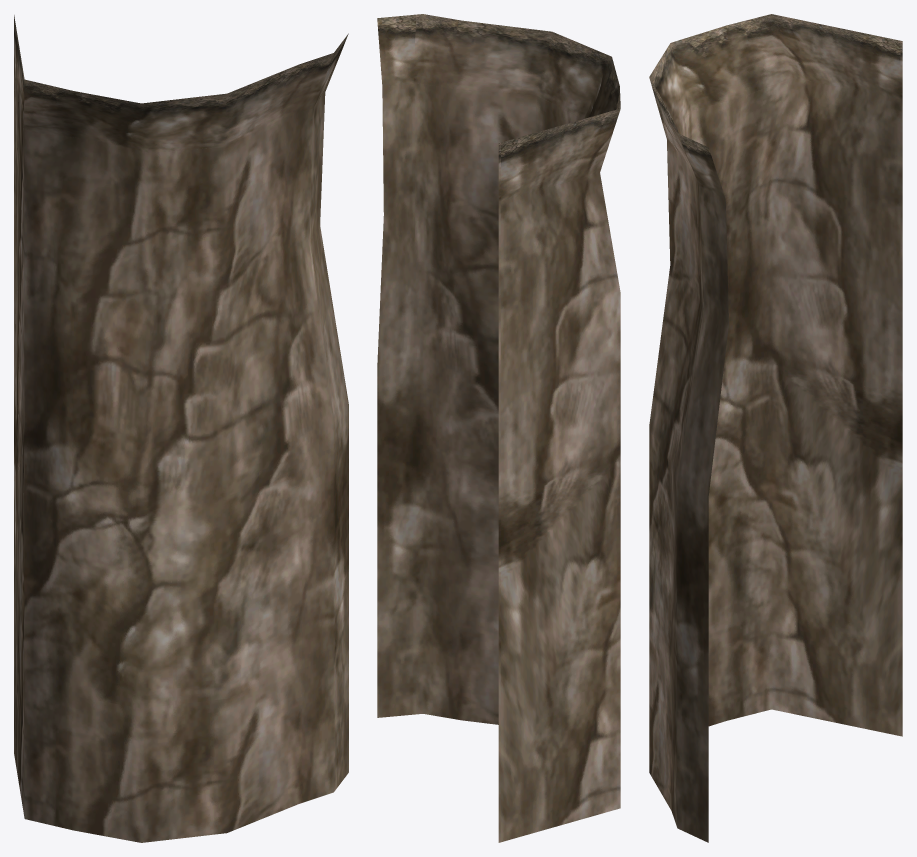
Rendered from OVERHILL_A_01_LINE126.fbx.
The picture shows the model from 3 angles, left to right: view 1: azimuth 30°, elevation 25°; view 2: azimuth 150°, elevation 25°; view 3: azimuth 270°, elevation 25°; orthographic projection. The views are drawn at different scales.
Visible parts, largest first — view 1: OVERHILL_A_01_LINE126; view 2: OVERHILL_A_01_LINE126; view 3: OVERHILL_A_01_LINE126.
Part boxes in pixels (x1=…): OVERHILL_A_01_LINE126: x1=14, y1=15, x2=348, y2=842; OVERHILL_A_01_LINE126: x1=377, y1=14, x2=620, y2=842; OVERHILL_A_01_LINE126: x1=649, y1=14, x2=902, y2=842.
Bounding box in the file's own units: 28918 × 70252 × 23218.
Materials: 2 (2 with a texture image).
